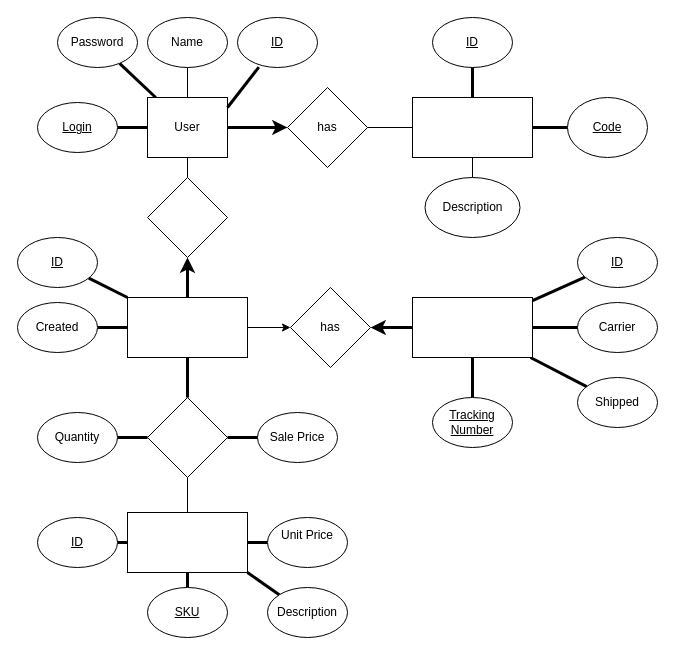
Some shapes in this 675 by 655 pixel diagram are drawn without their labels. Here are the shapes that lost their labels. From the top down, the box of each, then its label:
(412, 96, 532, 158): User Type
(146, 176, 228, 258): places
(126, 296, 248, 358): Order
(412, 296, 532, 358): Shipment
(146, 396, 228, 478): includes
(126, 512, 248, 572): Product
